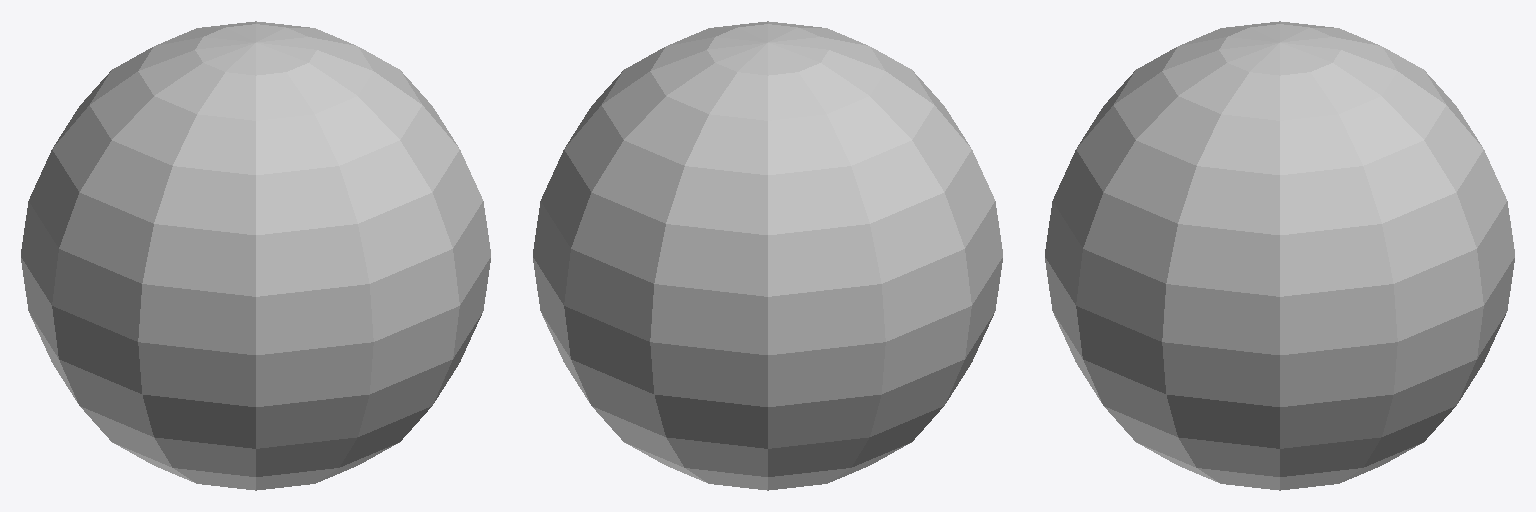
Rendered from Gaseous_04-512x512.obj.
3 views of the same model, side by side, from view 1: azimuth 30°, elevation 25°; view 2: azimuth 150°, elevation 25°; view 3: azimuth 270°, elevation 25° (orthographic).
Visible parts, largest first — view 1: Sphere.001; view 2: Sphere.001; view 3: Sphere.001.
Boxes of the visible parts, box(x1,y1,x2,y2) form: Sphere.001: box(21, 21, 490, 490); Sphere.001: box(533, 21, 1002, 490); Sphere.001: box(1045, 21, 1514, 490).
Bounding box in the file's own units: 2 × 2 × 2.